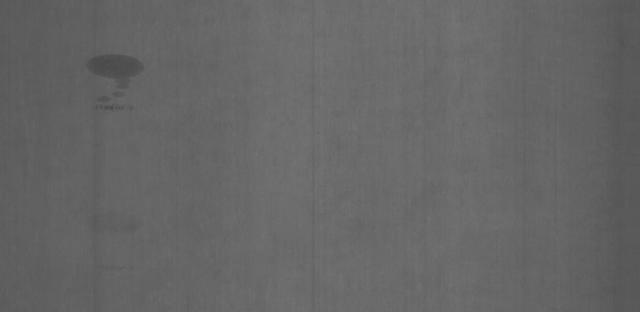oil_spot: (74, 45, 150, 109)
